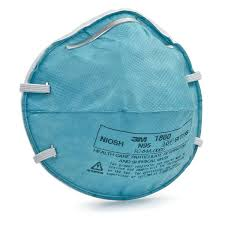mask: (22, 15, 199, 186)
